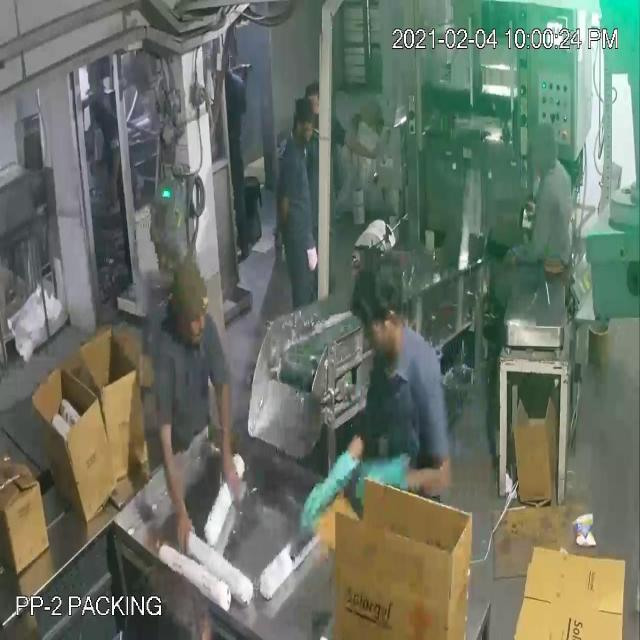No_Gloves: (46, 40, 398, 489)
